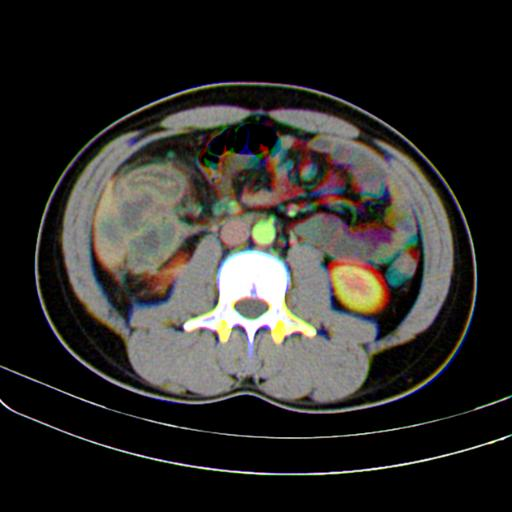Abscess: (102, 167, 176, 274)
